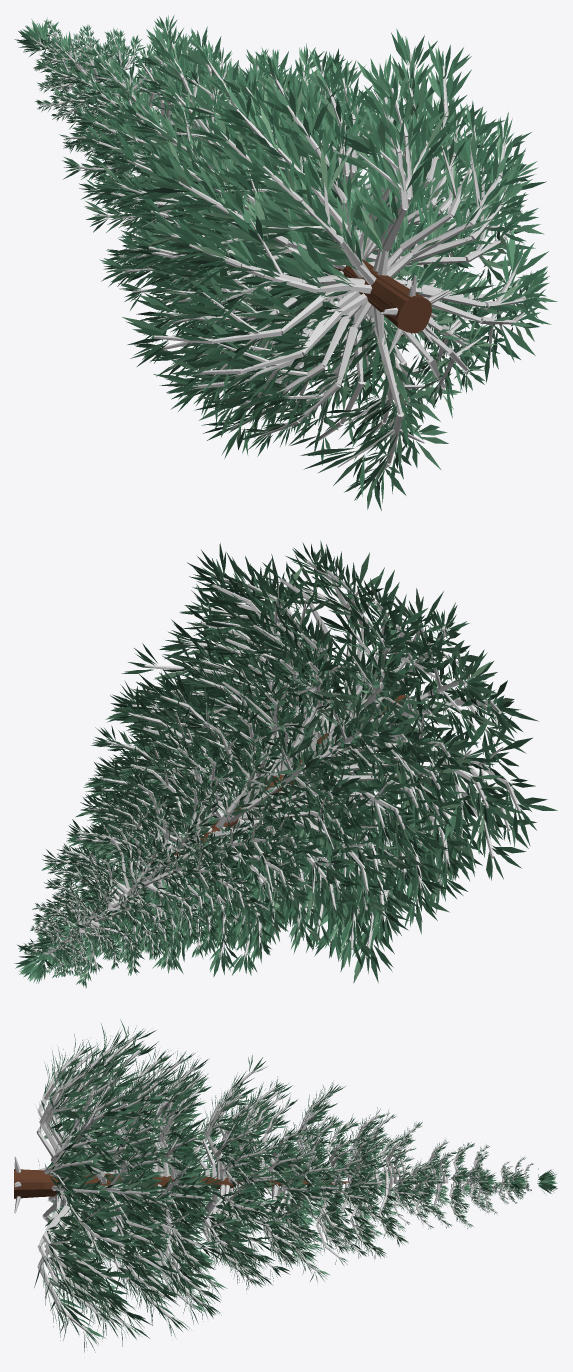
File: Tree_Pine.fbx
3 renders of one model, top to bottom at view 1: azimuth 30°, elevation 25°; view 2: azimuth 150°, elevation 25°; view 3: azimuth 270°, elevation 25°, orthographic. The views are drawn at different scales.
Visible parts, largest first — view 1: Tree_Pine_LOD0_Foliage, Tree_Pine_LOD1_Foliage, Tree_Pine_LOD0_Branches, Tree_Pine_LOD1_Branches, Tree_Pine_LOD2_Foliage, Tree_Pine_LOD2_Branches, Tree_Pine_LOD0_Wood, Tree_Pine_LOD1_Wood; view 2: Tree_Pine_LOD0_Foliage, Tree_Pine_LOD1_Foliage, Tree_Pine_LOD0_Branches, Tree_Pine_LOD1_Branches, Tree_Pine_LOD2_Foliage, Tree_Pine_LOD2_Branches; view 3: Tree_Pine_LOD0_Foliage, Tree_Pine_LOD0_Branches, Tree_Pine_LOD1_Foliage, Tree_Pine_LOD1_Branches, Tree_Pine_LOD2_Branches, Tree_Pine_LOD2_Foliage, Tree_Pine_LOD0_Wood, Tree_Pine_LOD2_Wood.
Part boxes in pixels (left/top/right/bottom): Tree_Pine_LOD0_Foliage: left=14, top=15, right=557, bottom=510; Tree_Pine_LOD1_Foliage: left=38, top=28, right=551, bottom=460; Tree_Pine_LOD0_Branches: left=30, top=23, right=529, bottom=483; Tree_Pine_LOD1_Branches: left=48, top=45, right=523, bottom=436; Tree_Pine_LOD2_Foliage: left=67, top=48, right=529, bottom=465; Tree_Pine_LOD2_Branches: left=74, top=50, right=504, bottom=440; Tree_Pine_LOD0_Wood: left=334, top=259, right=431, bottom=333; Tree_Pine_LOD1_Wood: left=340, top=260, right=431, bottom=333; Tree_Pine_LOD0_Foliage: left=14, top=540, right=538, bottom=988; Tree_Pine_LOD1_Foliage: left=31, top=544, right=557, bottom=977; Tree_Pine_LOD0_Branches: left=21, top=560, right=501, bottom=980; Tree_Pine_LOD1_Branches: left=38, top=570, right=520, bottom=971; Tree_Pine_LOD2_Foliage: left=47, top=562, right=536, bottom=954; Tree_Pine_LOD2_Branches: left=53, top=578, right=510, bottom=950; Tree_Pine_LOD0_Foliage: left=34, top=1023, right=557, bottom=1352; Tree_Pine_LOD0_Branches: left=14, top=1043, right=531, bottom=1335; Tree_Pine_LOD1_Foliage: left=38, top=1020, right=528, bottom=1346; Tree_Pine_LOD1_Branches: left=14, top=1034, right=511, bottom=1329; Tree_Pine_LOD2_Branches: left=14, top=1052, right=487, bottom=1319; Tree_Pine_LOD2_Foliage: left=38, top=1040, right=499, bottom=1324; Tree_Pine_LOD0_Wood: left=14, top=1169, right=348, bottom=1198; Tree_Pine_LOD2_Wood: left=14, top=1169, right=340, bottom=1197.
Size of the model in its own units: 972 by 953 by 1523.
